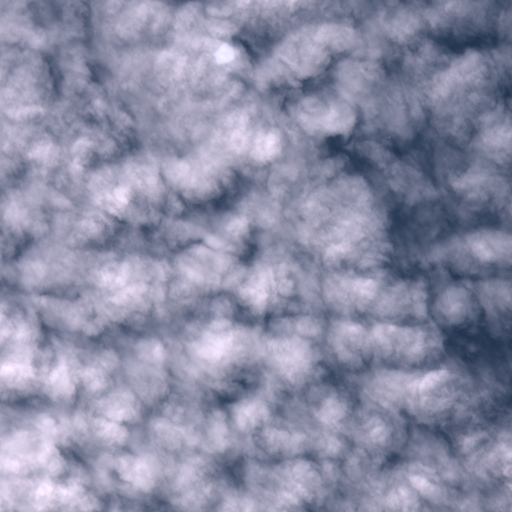Iceberg: (216, 43, 232, 63)
